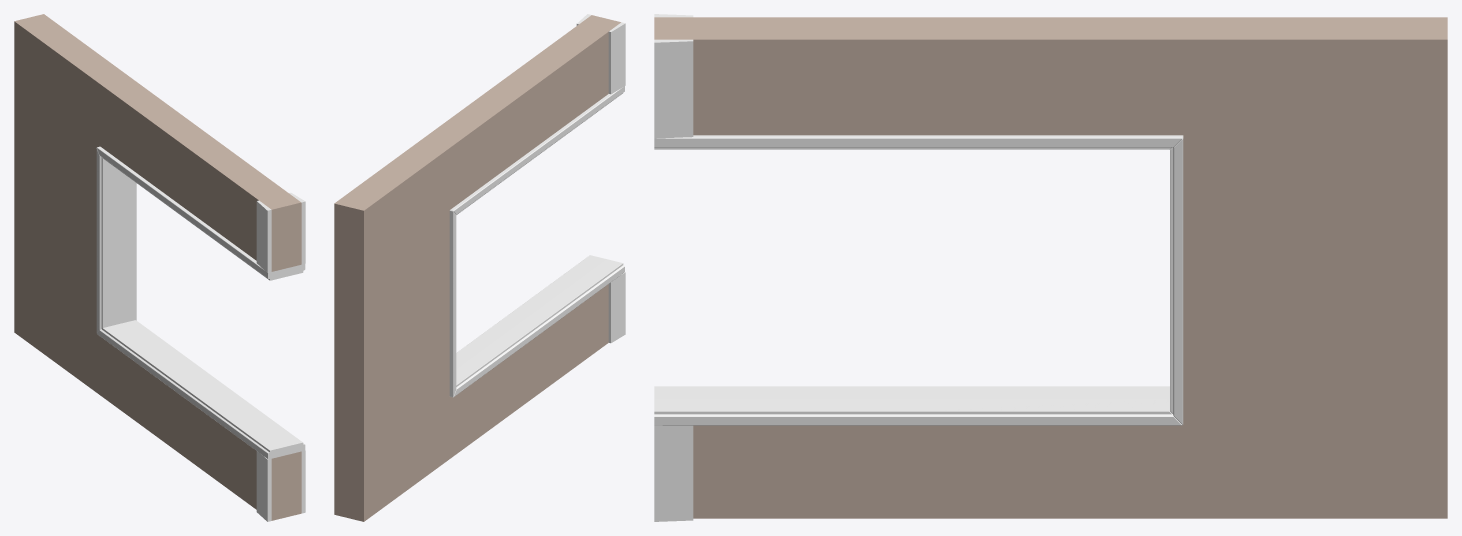
File: WallDoor.fbx
3 views of the same model, side by side, from view 1: azimuth 30°, elevation 25°; view 2: azimuth 150°, elevation 25°; view 3: azimuth 270°, elevation 25° (orthographic). The views are drawn at different scales.
Parts seen in each view (by area): view 1: Wall_Door; view 2: Wall_Door; view 3: Wall_Door.
Boxes of the visible parts, left/top/right/bottom form: Wall_Door: left=14, top=14, right=305, bottom=521; Wall_Door: left=334, top=14, right=625, bottom=521; Wall_Door: left=654, top=14, right=1447, bottom=521.
Bounding box in the file's own units: 3 × 2 × 0.2572.
